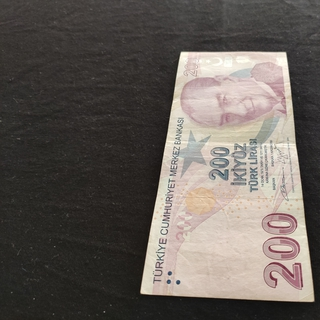200TLFront: (139, 51, 314, 303)
